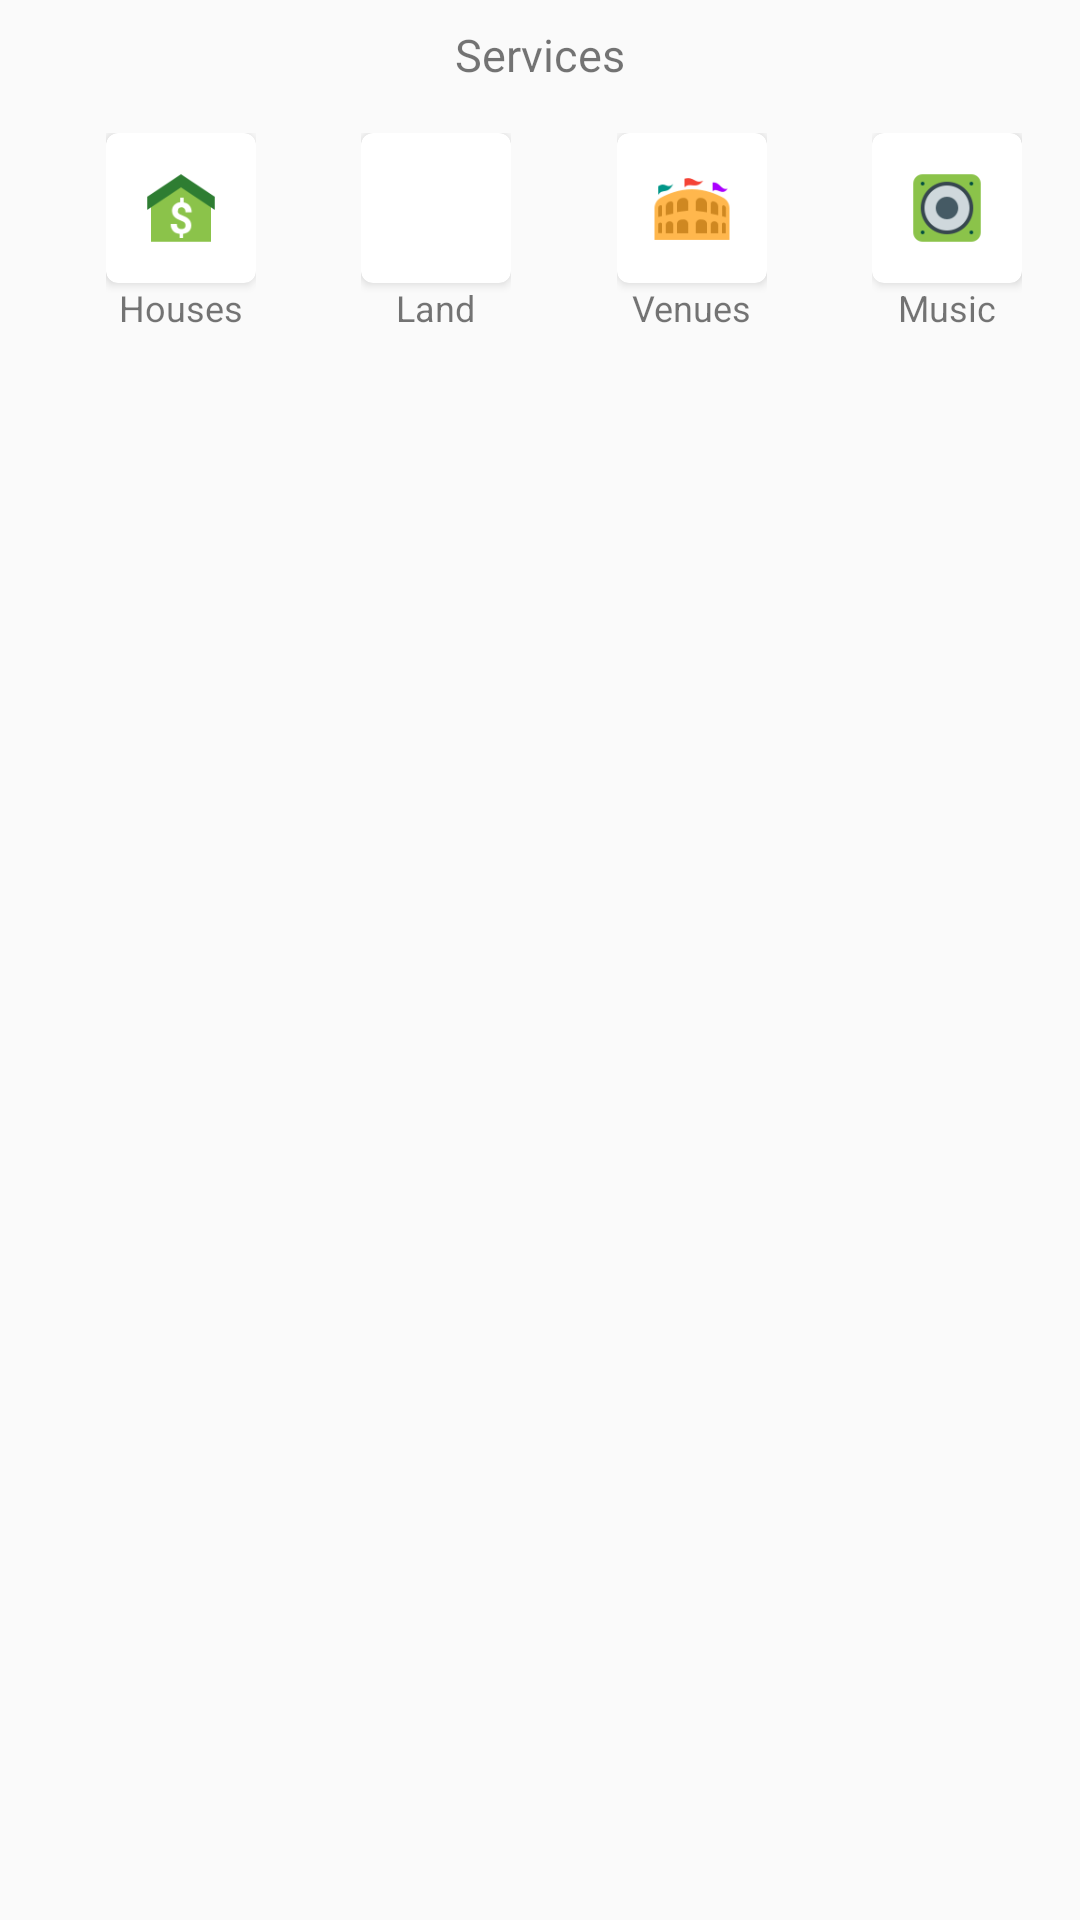

Point at icon controls on the screen. Image size 1080 × 1920, points as [x,y].
rent: [181,208]
